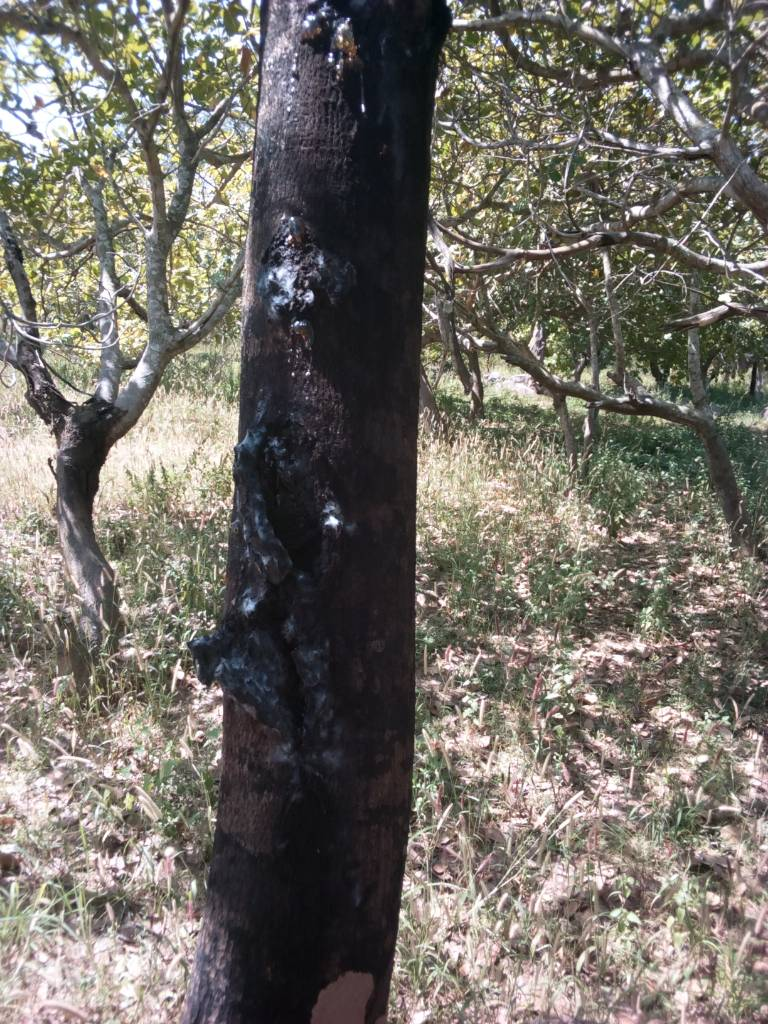Gommose: (211, 1, 436, 969)
